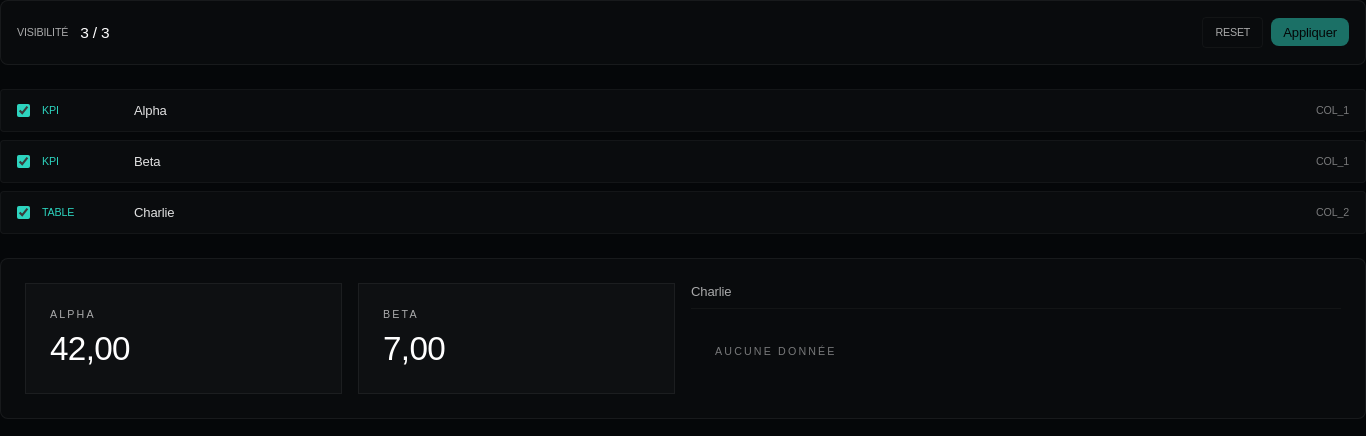
ReportSpecEditor › Reset : restaure tous les blocks visibles
Click the checkbox with test id "editor-toggle-kpi_a" at (24, 110), box [17,104,30,117]
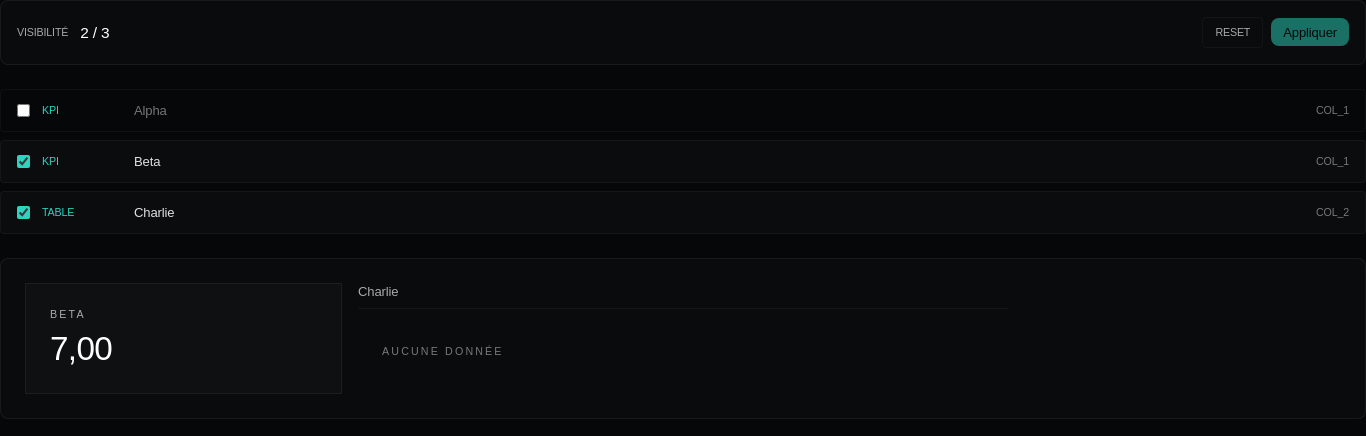
Click the checkbox with test id "editor-toggle-kpi_b" at (24, 161), box [17,155,30,168]
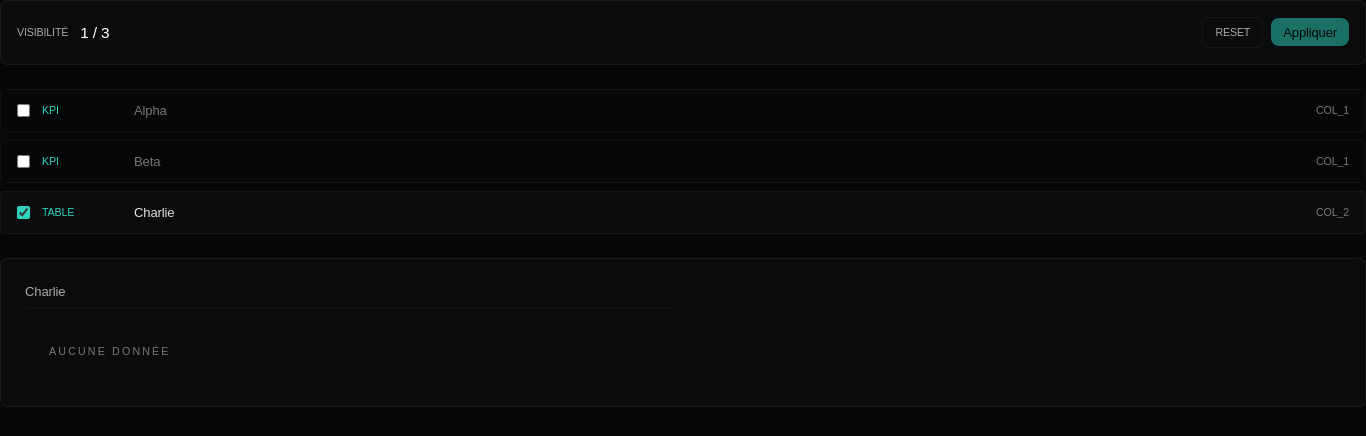
Check: the text "1 / 3" is shown, box [80,22,110,43]
Click the button with test id "editor-reset" at (1233, 32), box [1202,17,1263,48]
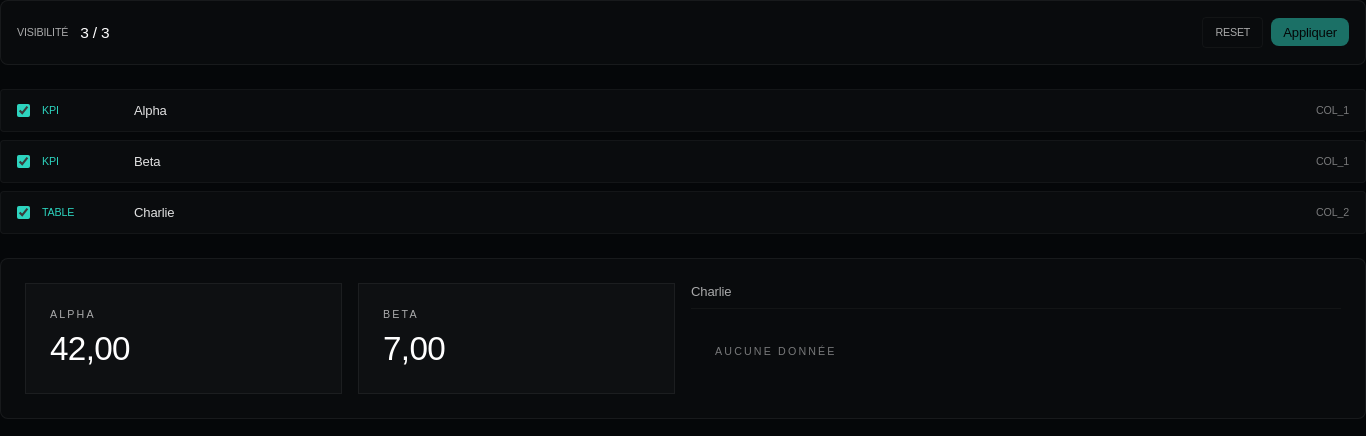
Check: the checkbox with test id "editor-toggle-kpi_a" is checked, box [17,104,30,117]
Check: the text "3 / 3" is shown, box [80,22,110,43]
